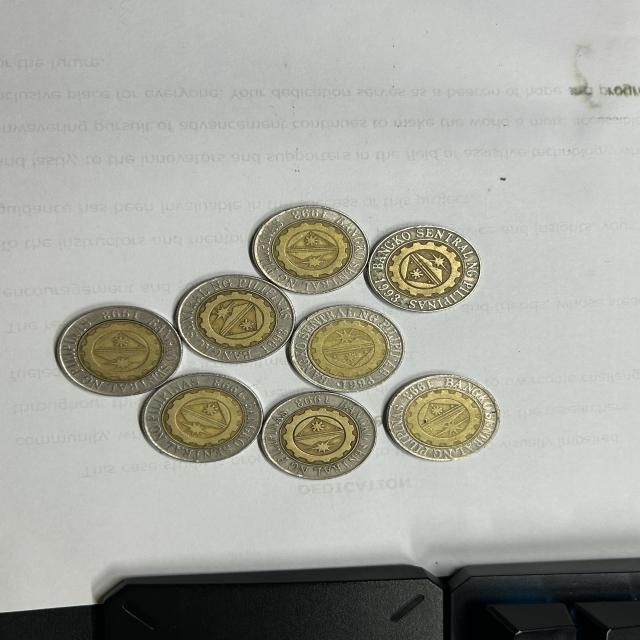10_Old_Back: (367, 221, 484, 311), (54, 312, 177, 396), (144, 374, 259, 460), (257, 207, 379, 288), (386, 375, 500, 459), (292, 307, 406, 388), (180, 278, 293, 359), (260, 392, 366, 474)
